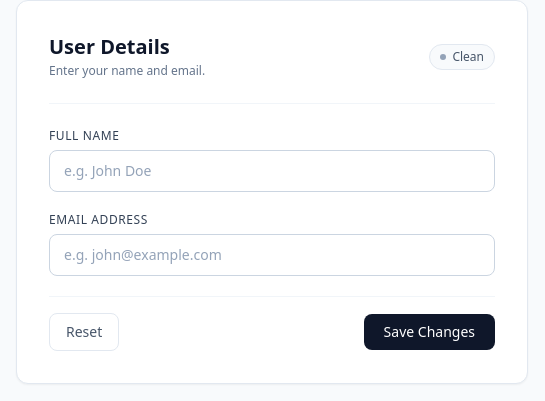
Scenario: UnsavedChangesForm › switches to Unsaved Changes when editing, and reverts to Clean when restored
Step 1. Type "Alice" into the field labelled "Full Name" → (272, 171), box [49,150,495,192]
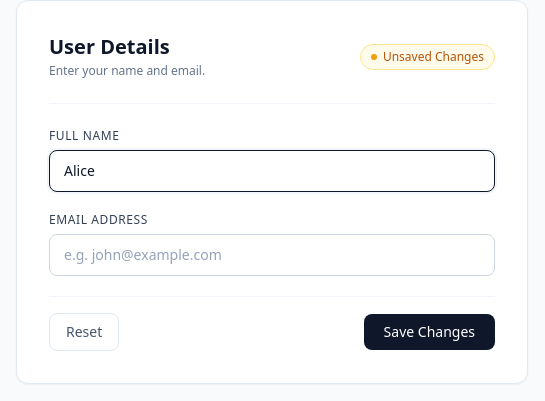
Expected: the text "Unsaved Changes" is shown, [360,44,495,70]
Step 2. Clear the field labelled "Full Name" → (272, 171), box [49,150,495,192]
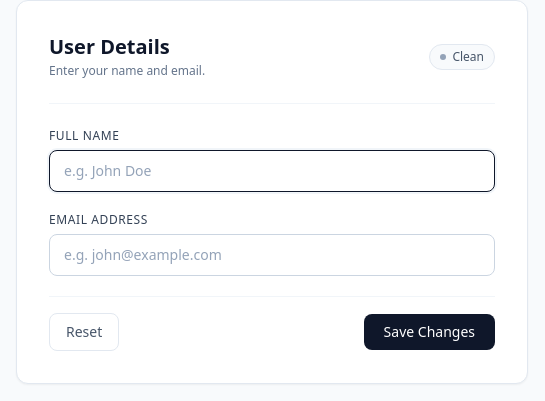
Expected: the text "Clean" is shown, [429,44,495,70]
